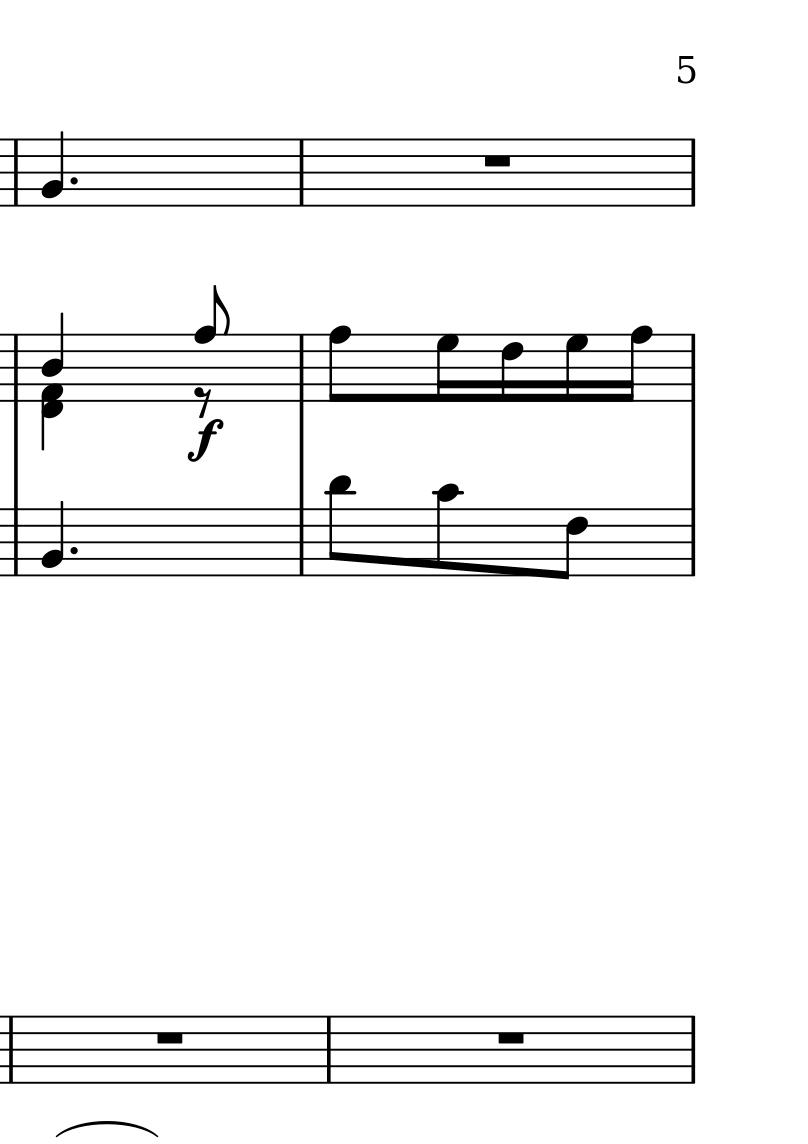16_6: (499, 331, 525, 405)
16_7: (563, 332, 590, 405), (434, 332, 460, 406)
16_8: (618, 324, 653, 405)
4_2: (41, 497, 66, 579), (41, 129, 66, 210)
5: (677, 51, 698, 90)
8_10: (431, 483, 462, 579)
8_11: (326, 475, 355, 580)
8_6: (554, 506, 589, 581)
8_8: (193, 283, 229, 402), (327, 324, 353, 405)
Rests1: (152, 1027, 188, 1048), (479, 151, 516, 171), (493, 1028, 529, 1048)
Rests8: (192, 384, 214, 417)
Single_barline: (292, 140, 312, 206), (293, 335, 313, 401), (683, 139, 702, 207), (293, 508, 312, 576), (684, 334, 702, 403), (683, 508, 701, 577), (8, 335, 26, 402), (320, 1016, 338, 1083), (683, 1016, 701, 1083), (8, 509, 25, 577), (3, 1015, 20, 1083), (8, 140, 24, 206)
dot: (67, 174, 80, 187), (67, 544, 80, 557)
f: (186, 418, 226, 462)
